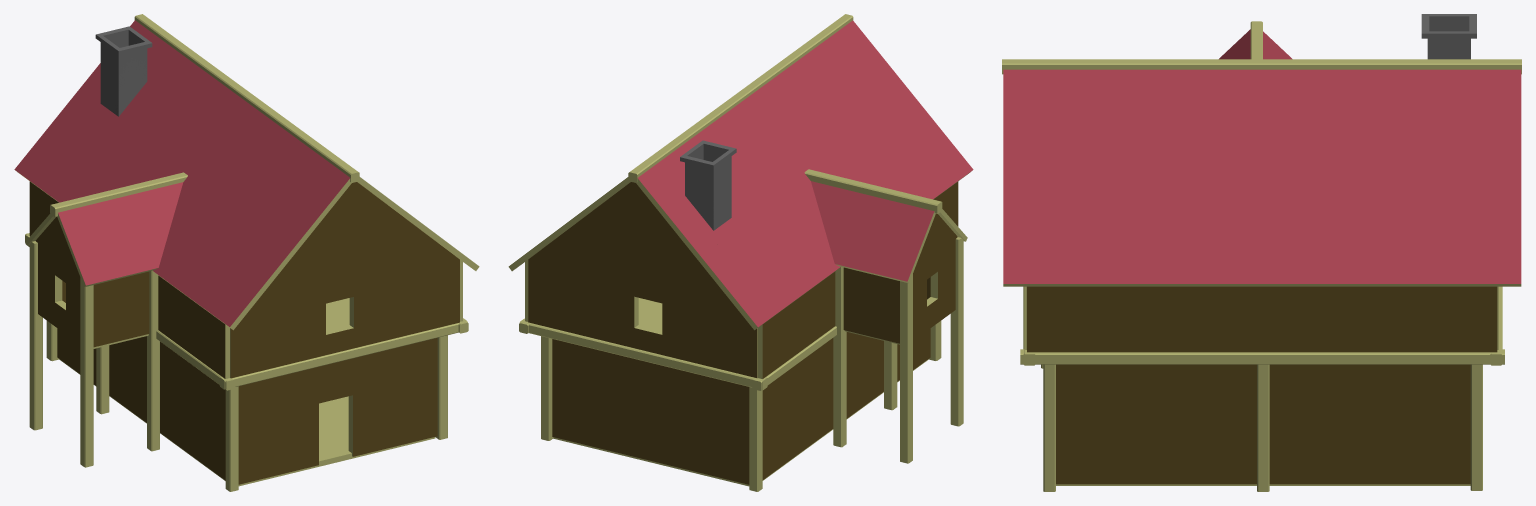
The model's file is Breakeable_House_Prototype_02.fbx.
3 views of the same model, side by side, from view 1: azimuth 30°, elevation 25°; view 2: azimuth 150°, elevation 25°; view 3: azimuth 270°, elevation 25° (orthographic). The views are drawn at different scales.
Parts seen in each view (by area): view 1: IntactWall_09, IntactWall_01, IntactWall_12, IntactWall_10, polySurface49, IntactRoof_03, IntactWall_03, polySurface48, polySurface52, polySurface67, polySurface68, polySurface66 (+39 smaller); view 2: IntactWall_05, IntactWall_02, IntactWall_12, IntactRoof_02, IntactWall_10, polySurface49, polySurface234 (×7), polySurface48, polySurface52, IntactWall_03, polySurface68, polySurface66 (+36 smaller); view 3: IntactWall_06, IntactWall_08, polySurface49, polySurface48, polySurface52, polySurface67, polySurface66, polySurface68, polySurface46, polySurface61, polySurface50, polySurface69 (+27 smaller).
Part boxes in pixels (x1,y1,x2,y2): IntactWall_09: [230, 182, 459, 378]; IntactWall_01: [238, 338, 437, 484]; IntactWall_12: [57, 328, 225, 480]; IntactWall_10: [29, 181, 229, 378]; polySurface49: [239, 149, 335, 257]; IntactRoof_03: [57, 182, 183, 286]; IntactWall_03: [35, 217, 80, 344]; polySurface48: [191, 238, 285, 312]; polySurface52: [227, 121, 310, 190]; polySurface67: [142, 46, 202, 126]; polySurface68: [132, 110, 229, 169]; polySurface66: [192, 62, 273, 161]; IntactWall_05: [528, 182, 757, 377]; IntactWall_02: [552, 339, 749, 484]; IntactWall_12: [762, 328, 930, 479]; IntactRoof_02: [811, 181, 935, 283]; IntactWall_10: [758, 181, 958, 378]; polySurface49: [813, 31, 917, 138]; polySurface234 (×7): [541, 173, 963, 453]; polySurface48: [885, 100, 950, 198]; polySurface52: [776, 50, 847, 129]; IntactWall_03: [913, 214, 957, 340]; polySurface68: [746, 117, 797, 212]; polySurface66: [695, 77, 804, 138]; IntactWall_06: [1056, 364, 1470, 484]; IntactWall_08: [1027, 286, 1497, 352]; polySurface49: [1003, 69, 1098, 197]; polySurface48: [1003, 185, 1105, 286]; polySurface52: [1083, 69, 1208, 157]; polySurface67: [1309, 69, 1441, 147]; polySurface66: [1187, 69, 1388, 138]; polySurface68: [1253, 100, 1372, 200]; polySurface46: [1433, 69, 1521, 150]; polySurface61: [1150, 173, 1261, 253]; polySurface50: [1394, 182, 1521, 242]; polySurface69: [1160, 100, 1291, 183].
Bounding box in the file's own units: 6.26 × 5.83 × 7.29.
